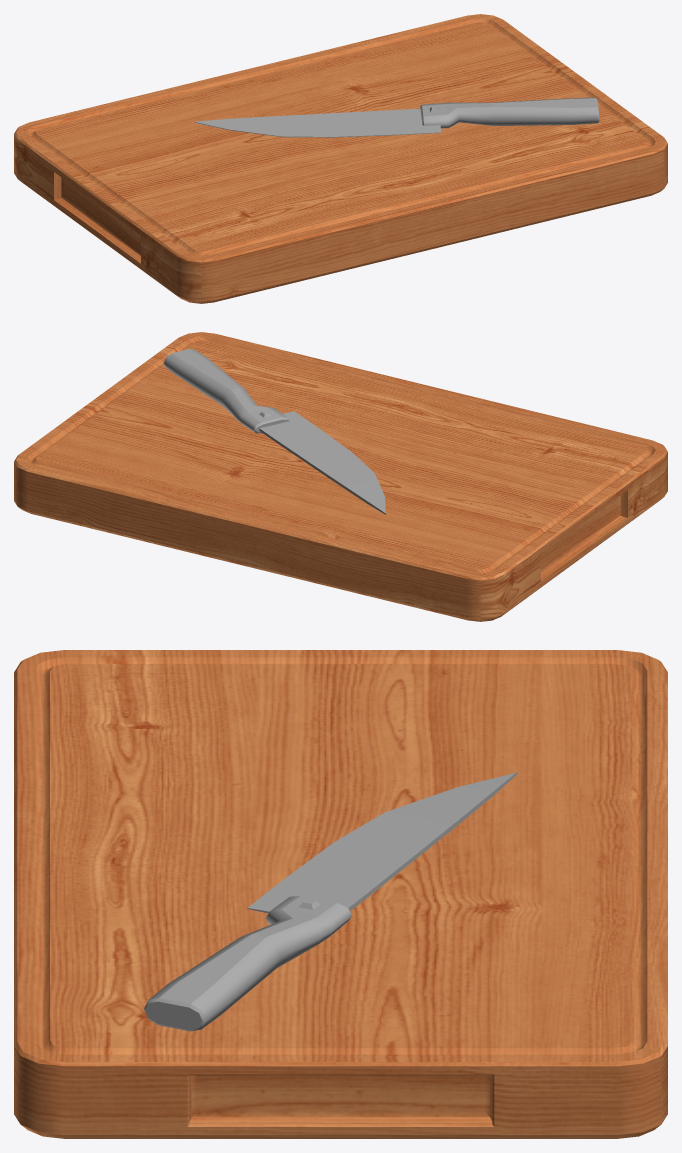
File: CuttingBoard.fbx
3 views of the same model, one above another, from view 1: azimuth 30°, elevation 25°; view 2: azimuth 150°, elevation 25°; view 3: azimuth 270°, elevation 25° (orthographic). The views are drawn at different scales.
Visible parts, largest first — view 1: pCube5; view 2: pCube5; view 3: pCube5.
Boxes of the visible parts, x1,y1,x2,y2 form: pCube5: [14, 14, 667, 303]; pCube5: [14, 332, 667, 621]; pCube5: [14, 650, 667, 1138].
Size of the model in its own units: 0.45 by 0.0563 by 0.3.
Materials: 3 (1 with a texture image).
